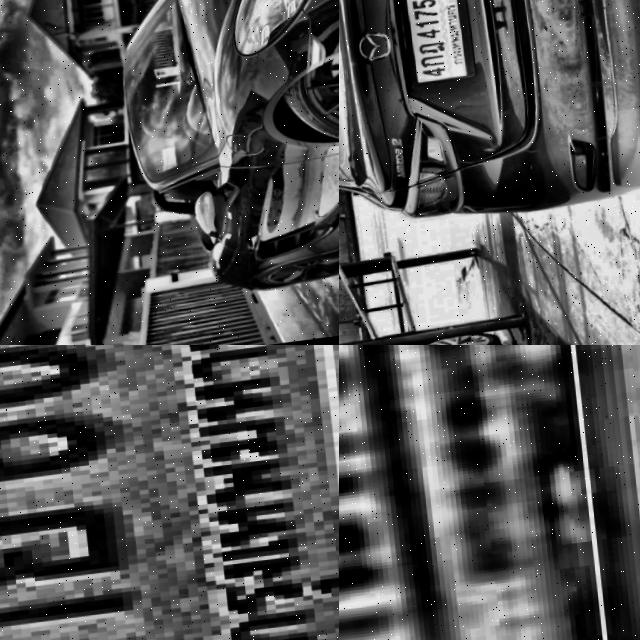license-plate: (0, 345, 339, 640), (339, 345, 611, 640), (393, 0, 467, 92)
